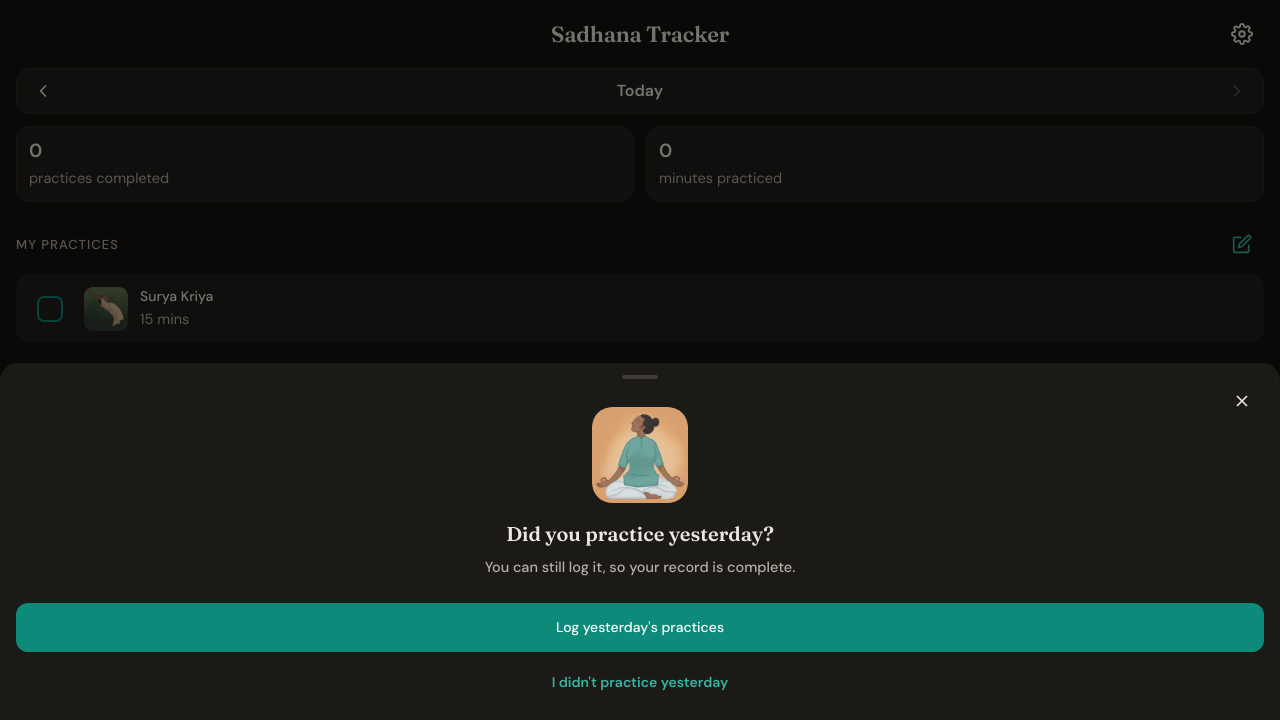
Scenario: Missed-day sheet on practice home › records closing it as a dismissal
Click the button named "Close": (1242, 401) [1220,379,1264,423]
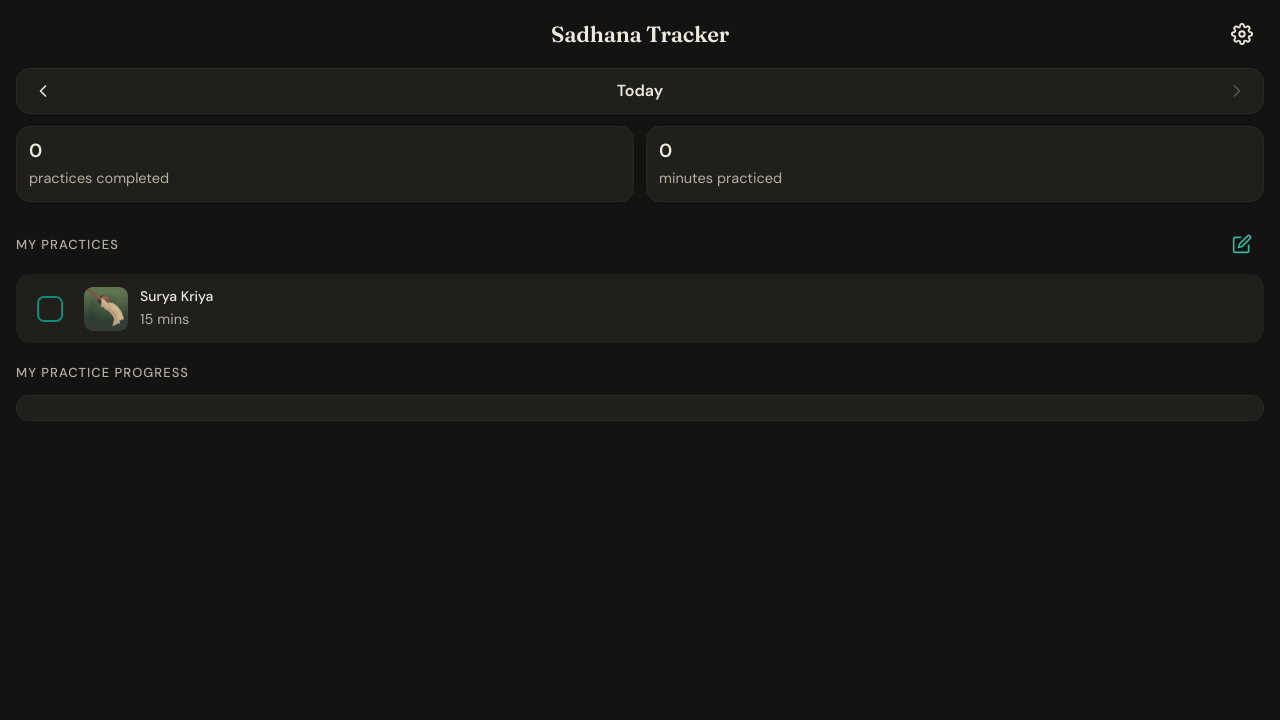
Result: the heading "Did you practice yesterday?" is gone
